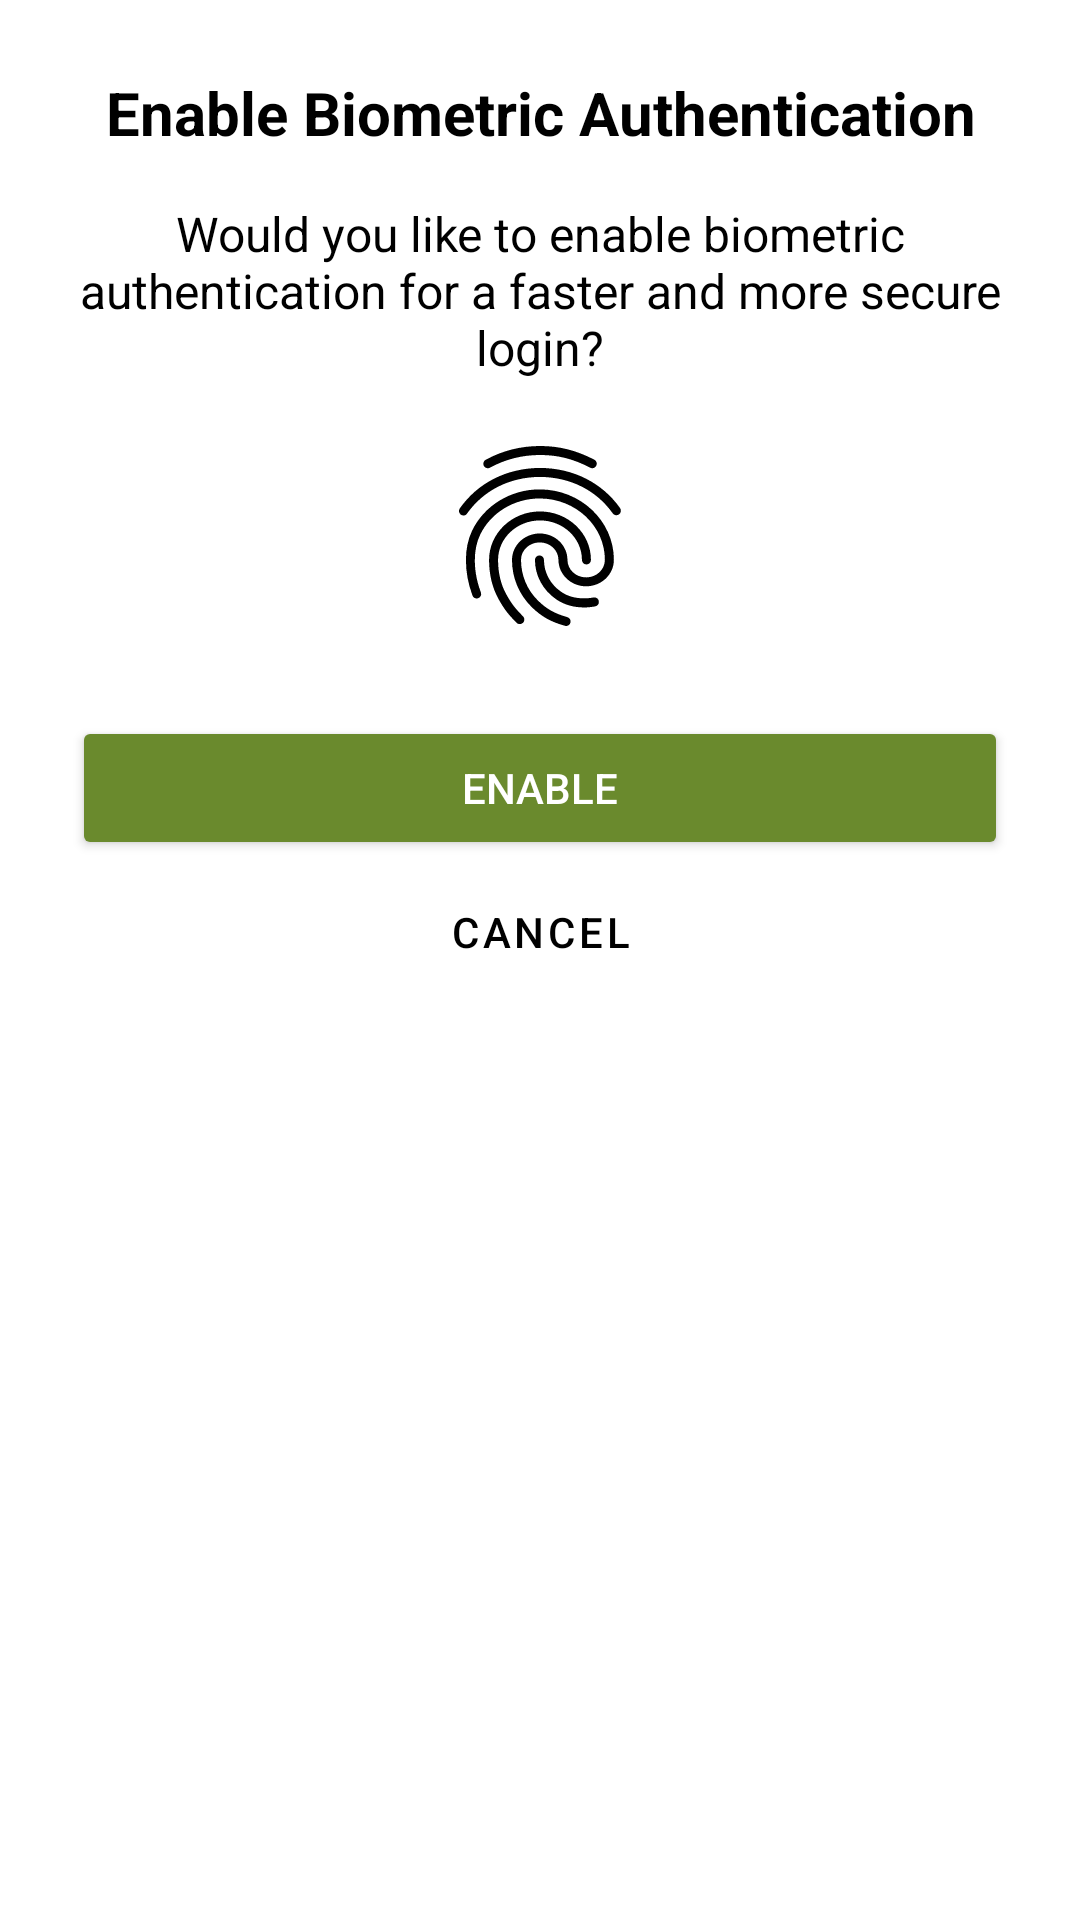

Icon bounding boxes for this 1080px×1920px phone screenshot, format [x1, y1, x2, y2]:
Fingerprint: [459, 446, 621, 626]
